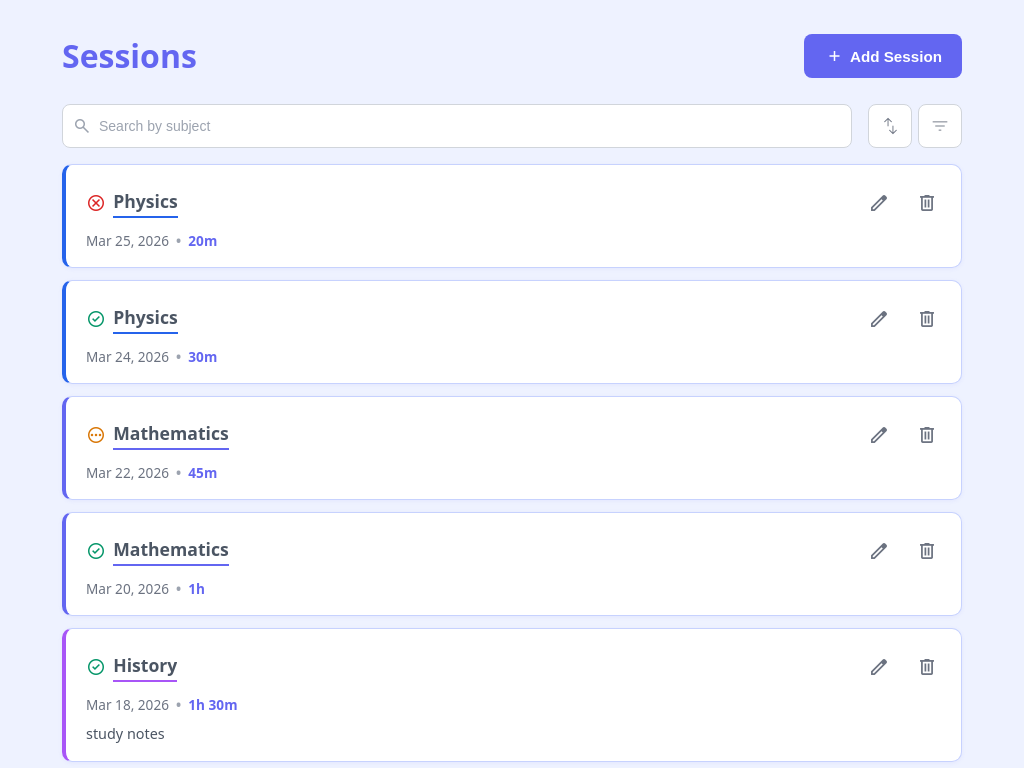
Test: Sessions – Toolbar (search, sort, filter) › sort dropdown › shows sort options when sort button is clicked
Click the button named "sort sessions" at point(890, 126), box left=868, top=104, right=912, bottom=148
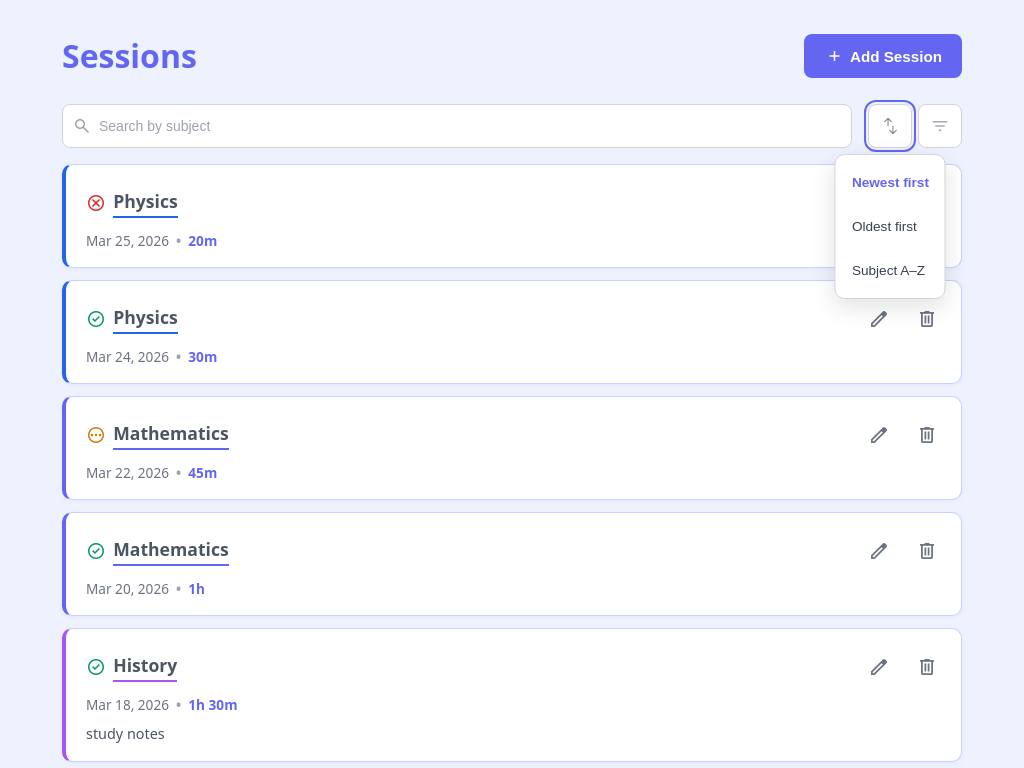
Expected: the option "Newest first" is shown, left=836, top=161, right=945, bottom=205
Expected: the option "Oldest first" is shown, left=836, top=205, right=945, bottom=249
Expected: the option "Subject A–Z" is shown, left=836, top=249, right=945, bottom=293
